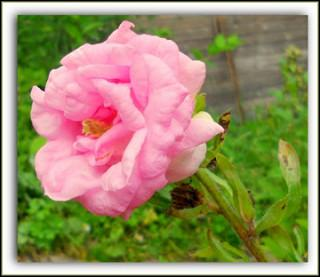Rose: (28, 25, 225, 219)
